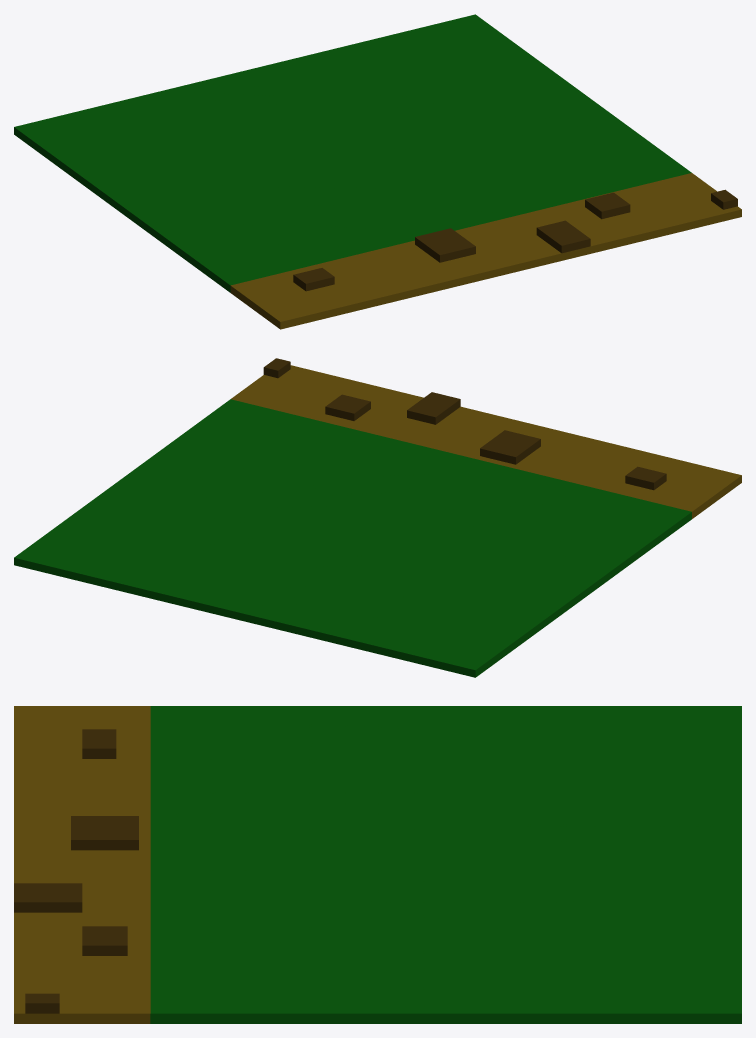
Rendered from Earth_Up_1.obj.
3 views of the same model, one above another, from view 1: azimuth 30°, elevation 25°; view 2: azimuth 150°, elevation 25°; view 3: azimuth 270°, elevation 25° (orthographic). The views are drawn at different scales.
Bounding box in the file's own units: 6.4 × 0.2 × 6.4.
